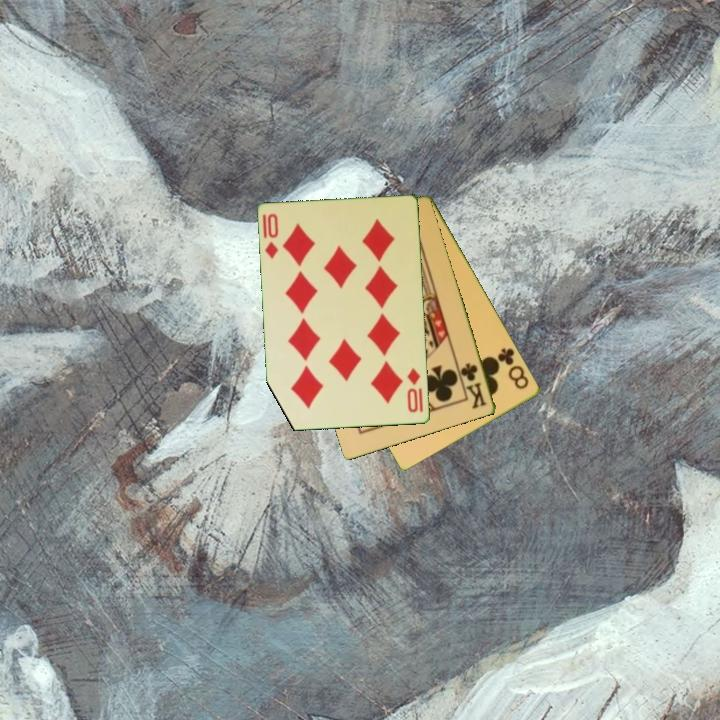10d: (259, 210, 282, 262), (404, 364, 426, 416)
8c: (494, 344, 532, 392)
Kc: (458, 359, 490, 412)
